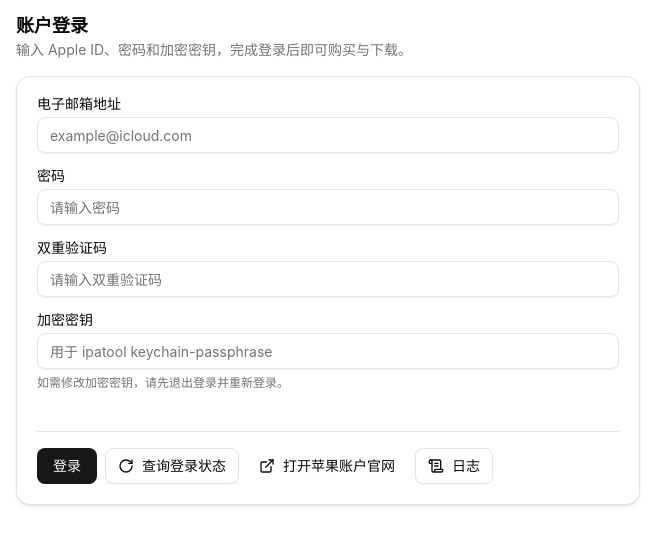
Test case: AccountPage › two-factor flow: login asks for the code, verify completes the session
Type "user@icloud.com" into the field labelled "电子邮箱地址". click: (328, 135)
box: x1=37 y1=117 x2=619 y2=153
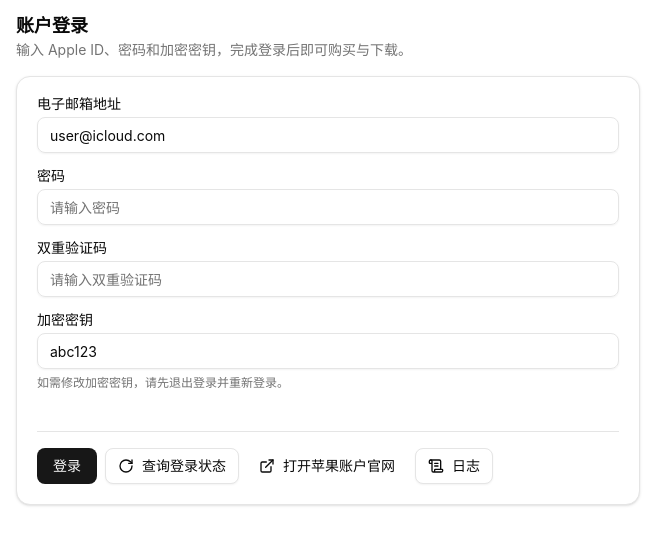
Type "pwd" into the password field labelled "密码". click: (328, 207)
box: x1=37 y1=189 x2=619 y2=225
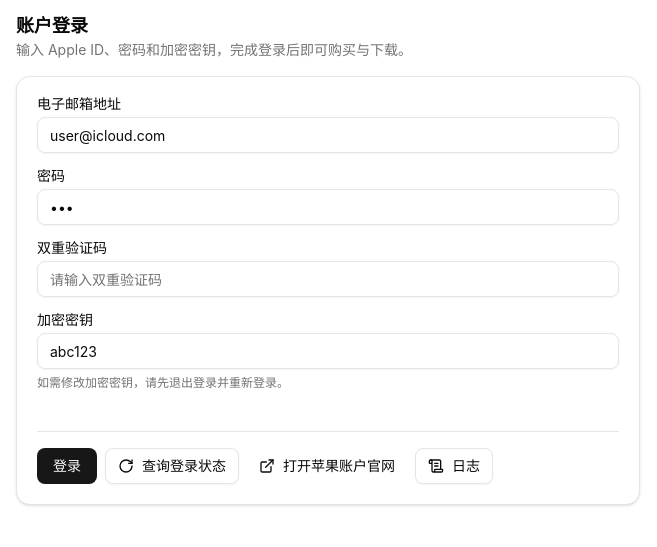
Click the button "登录". click: (67, 466)
box: x1=37 y1=448 x2=97 y2=484
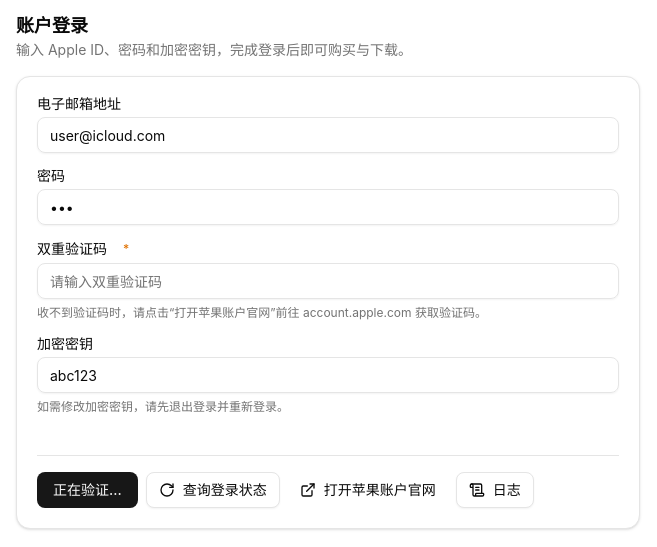
Expected: the button "正在验证..." is shown, x1=37 y1=472 x2=138 y2=508
Expected: the text "收不到验证码时，请点击“打开苹果账户官网”前往 account.apple.com 获取验证码。" is shown, x1=37 y1=305 x2=487 y2=320
第二阶段：填验证码后确认，走 auth_verify_code
Type "123456" into the field labelled "双重验证码 *". click: (328, 281)
box: x1=37 y1=263 x2=619 y2=299
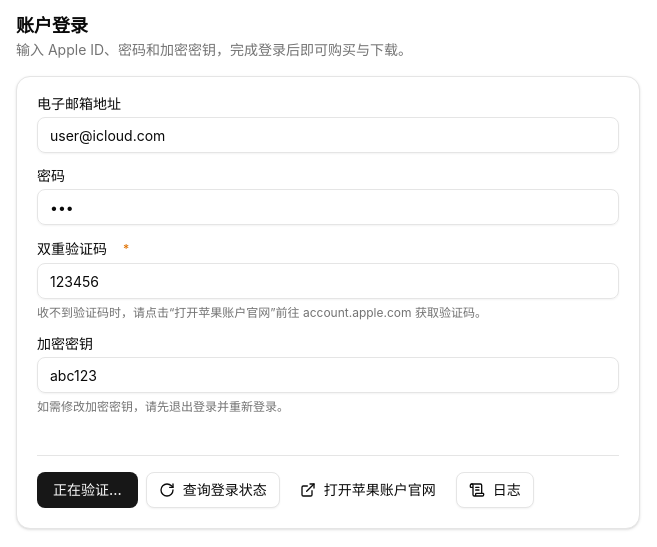
Click the button "正在验证...". click: (87, 490)
box: x1=37 y1=472 x2=138 y2=508
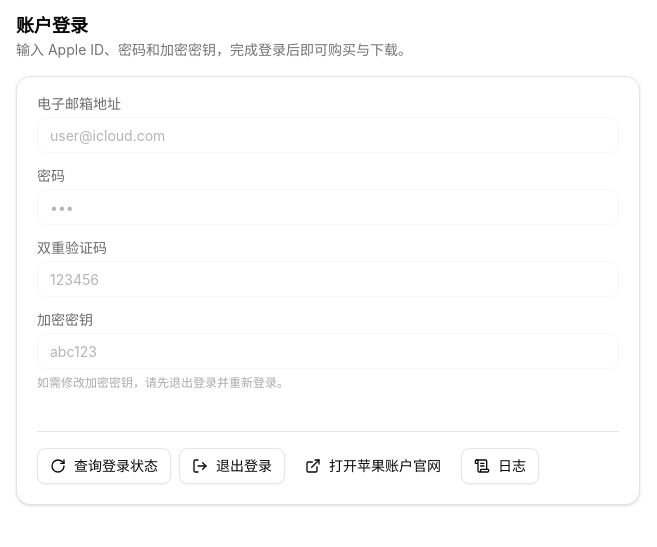
Expected: the button "退出登录" is shown, x1=179 y1=448 x2=285 y2=484
